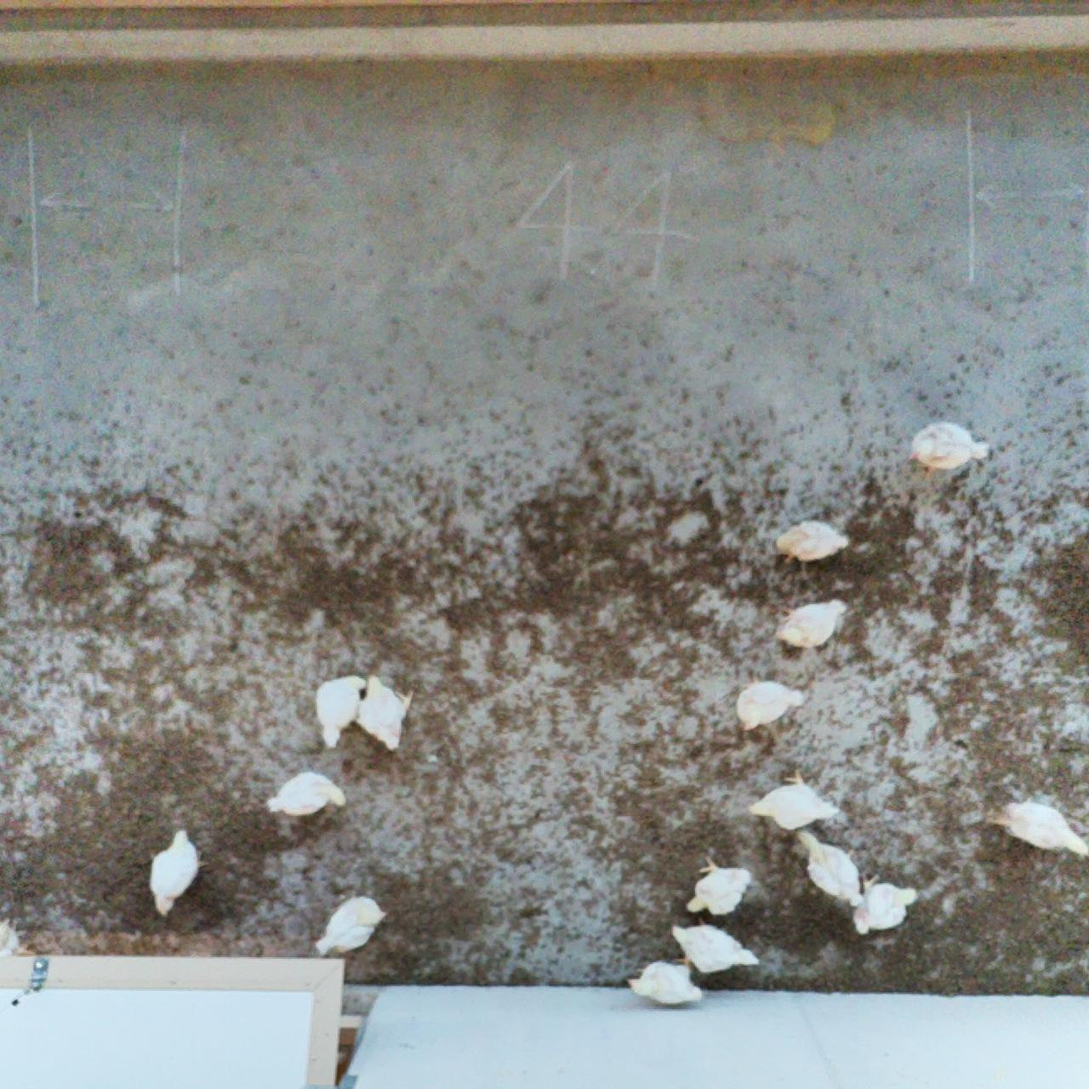chicken: (989, 794, 1089, 863), (747, 769, 844, 835), (793, 826, 866, 912), (670, 920, 763, 979), (149, 824, 207, 918), (311, 891, 391, 959), (908, 420, 994, 481), (770, 514, 853, 577), (354, 672, 417, 753), (734, 670, 809, 737), (772, 596, 850, 656), (853, 872, 923, 938), (267, 766, 348, 823), (684, 855, 754, 917), (314, 670, 368, 750), (627, 957, 706, 1009), (0, 913, 35, 960)
